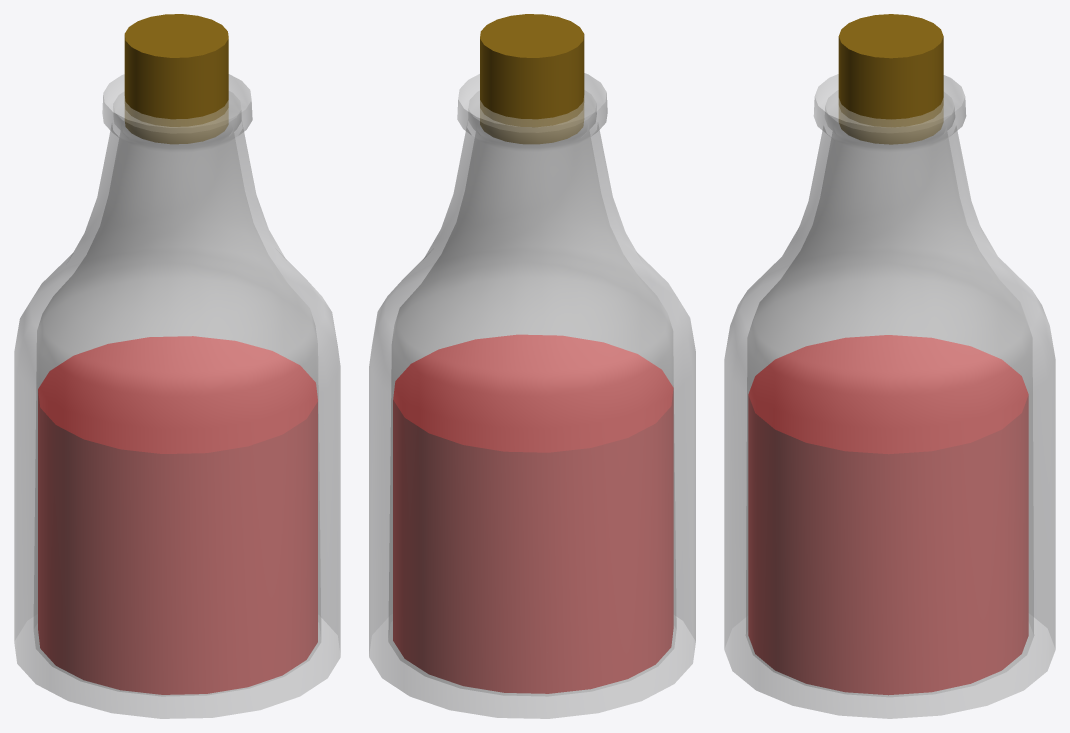
File: PotionHP.fbx
3 views of the same model, side by side, from view 1: azimuth 30°, elevation 25°; view 2: azimuth 150°, elevation 25°; view 3: azimuth 270°, elevation 25° (orthographic).
Visible parts, largest first — view 1: pCylinder8; view 2: pCylinder8; view 3: pCylinder8.
Boxes of the visible parts, x1=… form: pCylinder8: x1=14, y1=14, x2=340, y2=718; pCylinder8: x1=369, y1=14, x2=695, y2=718; pCylinder8: x1=724, y1=14, x2=1055, y2=718.
Size of the model in its own units: 8.82 by 18.34 by 8.93.
